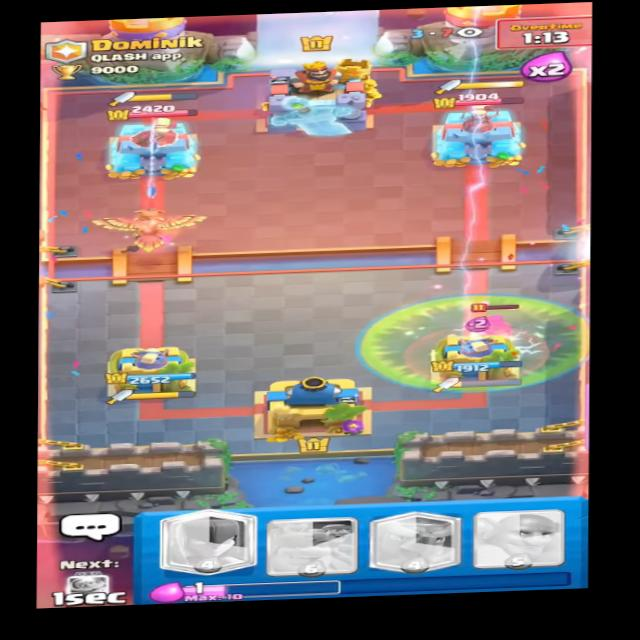ram-rider: (468, 297, 529, 348)
